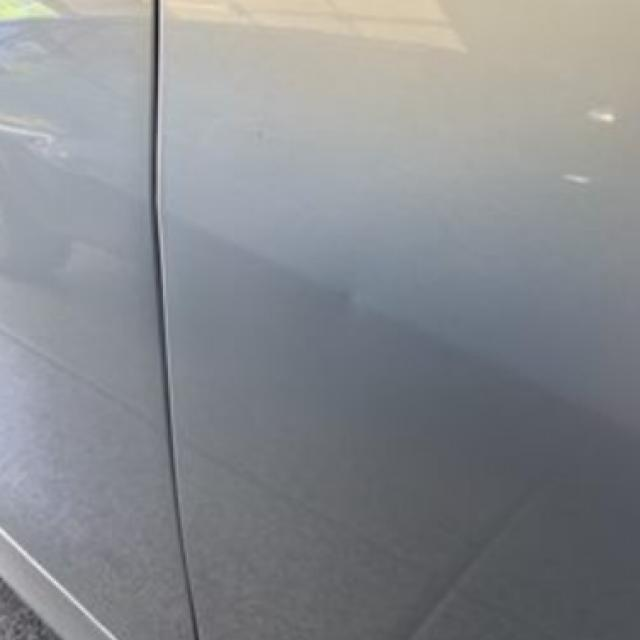dents: (300, 267, 390, 328)
